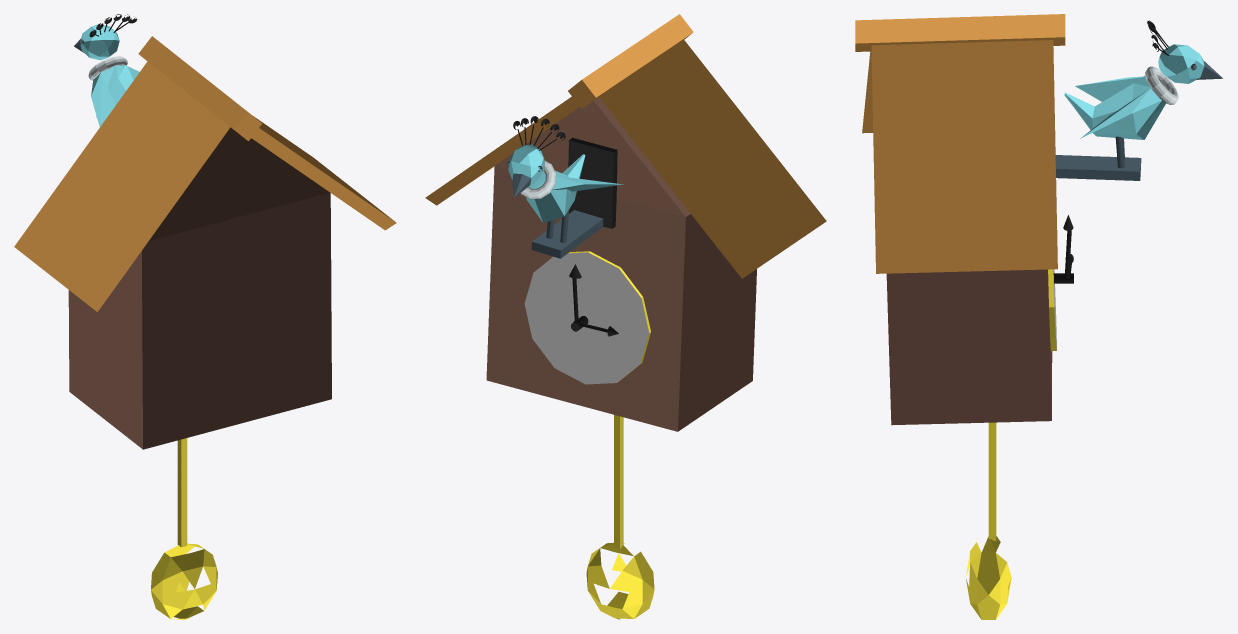
File: cuckoo clock.glb
The picture shows the model from 3 angles, left to right: view 1: azimuth 30°, elevation 25°; view 2: azimuth 150°, elevation 25°; view 3: azimuth 270°, elevation 25°; orthographic projection. The views are drawn at different scales.
Visible parts, largest first — view 1: Node; view 2: Node; view 3: Node.
Boxes of the visible parts, bbox=[...] form: Node: bbox=[14, 14, 396, 619]; Node: bbox=[425, 14, 826, 619]; Node: bbox=[855, 14, 1222, 619].
Bounding box in the file's own units: 0.5499 × 0.9574 × 0.5266.
